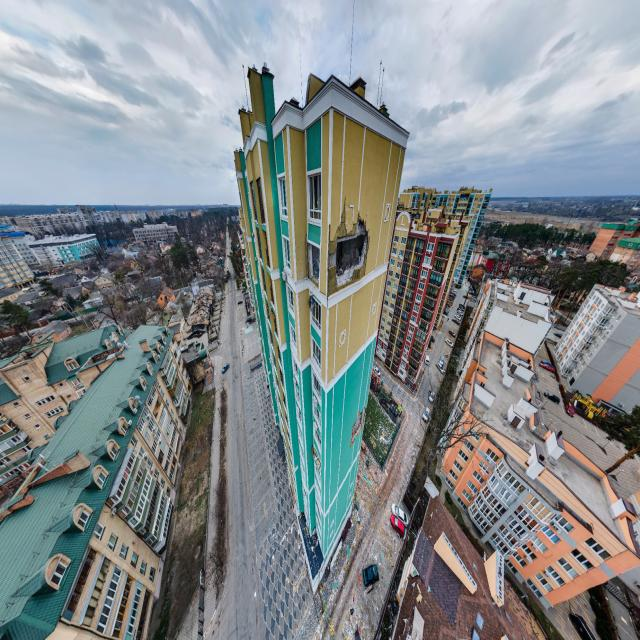building: (234, 62, 409, 598)
damage: (327, 196, 370, 299), (307, 242, 320, 290), (350, 407, 365, 448), (311, 445, 321, 472), (308, 288, 317, 313)
other: (0, 0, 314, 640), (352, 0, 640, 639), (0, 0, 640, 160), (0, 516, 640, 639)
